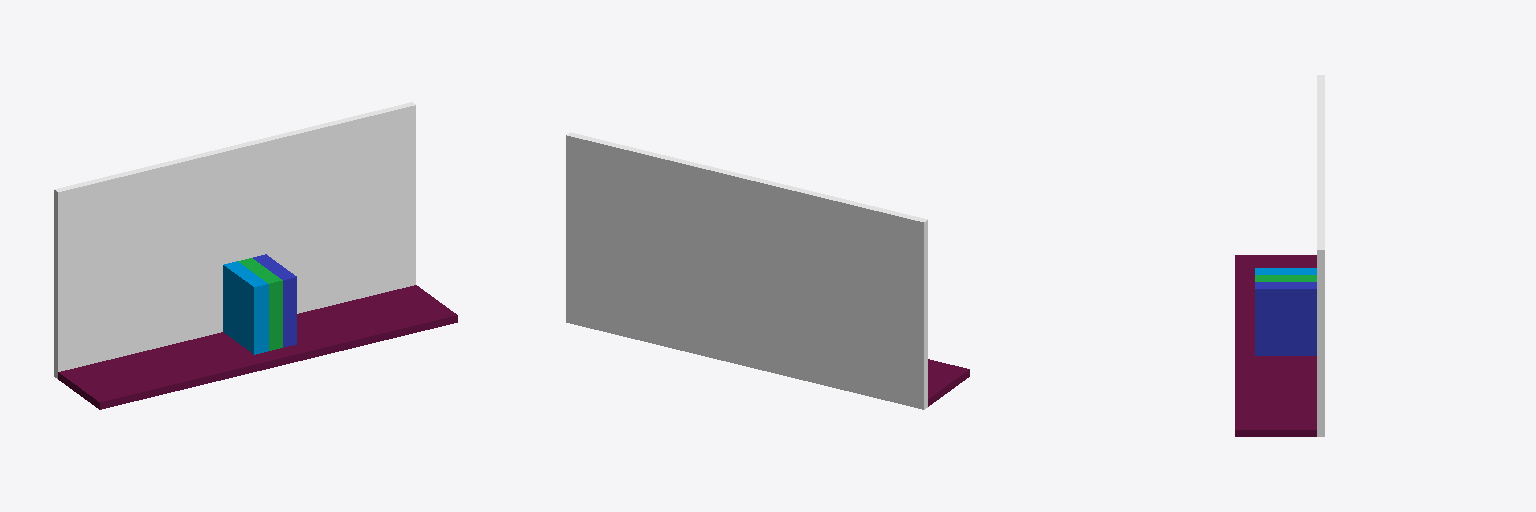
File: books-shelf.obj
3 views of the same model, side by side, from view 1: azimuth 30°, elevation 25°; view 2: azimuth 150°, elevation 25°; view 3: azimuth 270°, elevation 25° (orthographic).
Visible parts, largest first — view 1: Object.2, Object.1, Object.4, Object.5, Object.3; view 2: Object.2, Object.1; view 3: Object.1, Object.5, Object.2.
Part boxes in pixels (x1,y1,x2,y2): Object.2: (54,102,415,378); Object.1: (58,285,457,409); Object.4: (223,261,268,354); Object.5: (253,254,296,347); Object.3: (238,258,282,350); Object.2: (566,132,927,409); Object.1: (928,359,969,406); Object.1: (1235,255,1316,436); Object.5: (1255,282,1316,355); Object.2: (1317,75,1324,436).
Bounding box in the file's own units: 1000 × 500 × 220.